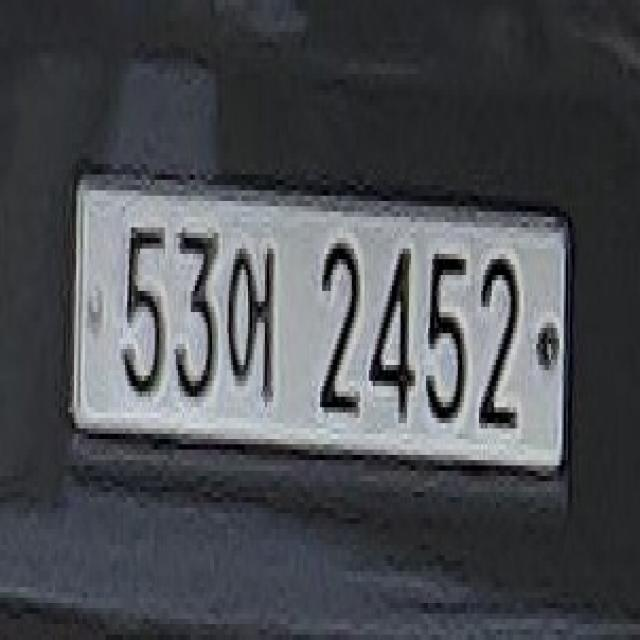2: (305, 217, 369, 434), (475, 243, 530, 450)
3: (172, 190, 220, 408)
4: (366, 217, 424, 428)
5: (418, 212, 470, 470), (120, 196, 172, 418)
eo: (227, 227, 292, 428)
license_plate: (62, 153, 580, 534)
